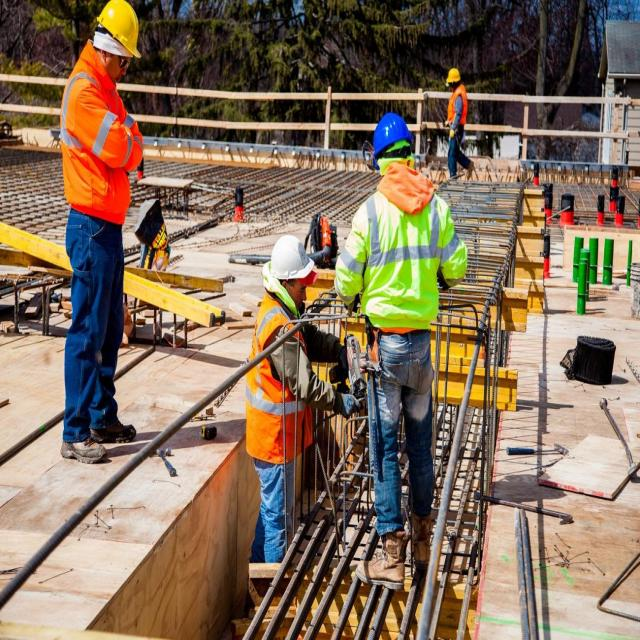Reflective-Jacket: (354, 184, 454, 332), (59, 55, 139, 222), (243, 295, 311, 462), (447, 84, 469, 139)
Safety-Helmet: (93, 0, 142, 58), (266, 230, 314, 280), (368, 105, 414, 157), (446, 65, 462, 84)
